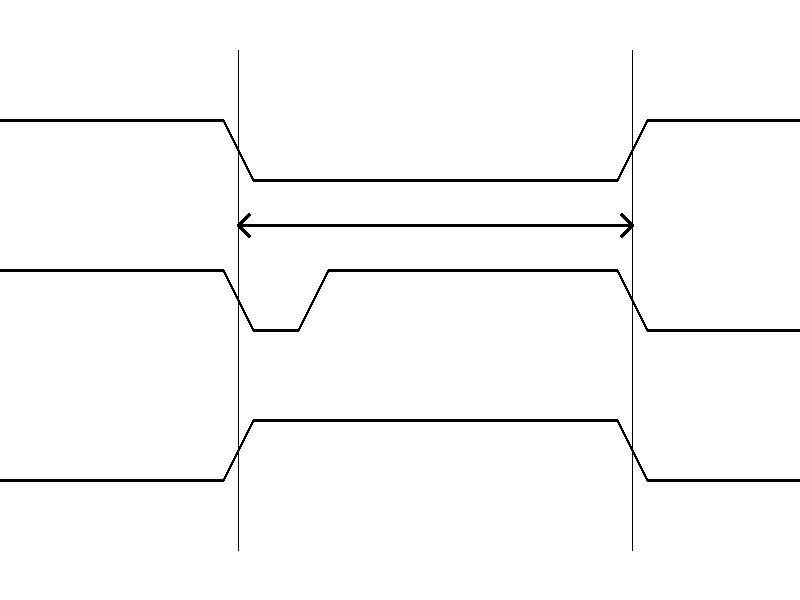double_arrow: (238, 210, 632, 240)
